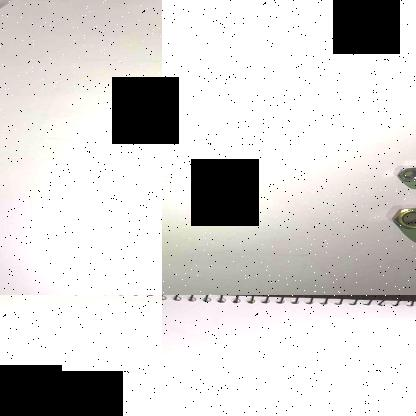NUTS: (385, 205, 416, 231), (393, 164, 416, 184)
